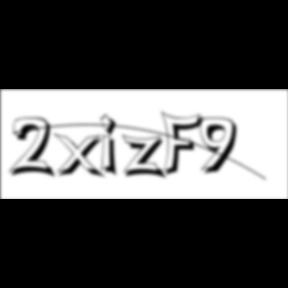2: (9, 117, 59, 181)
9: (200, 117, 244, 177)
F: (161, 110, 209, 178)
i: (100, 112, 124, 180)
x: (54, 132, 108, 181)
z: (122, 134, 170, 182)
